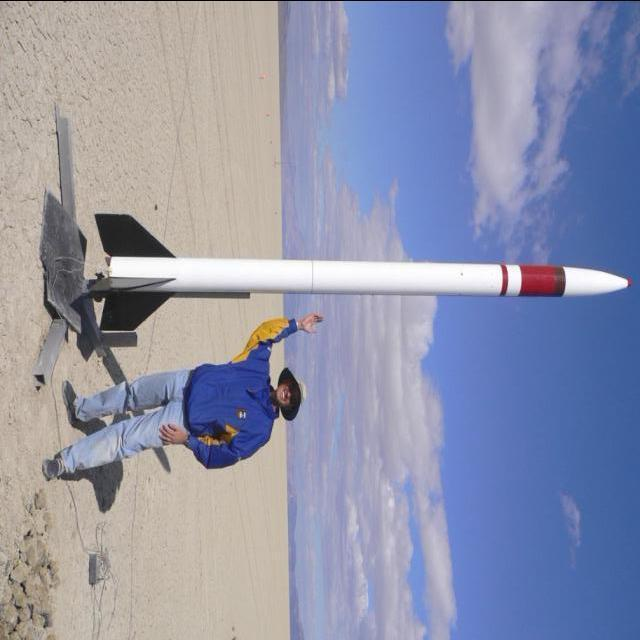missile: (93, 207, 632, 352)
